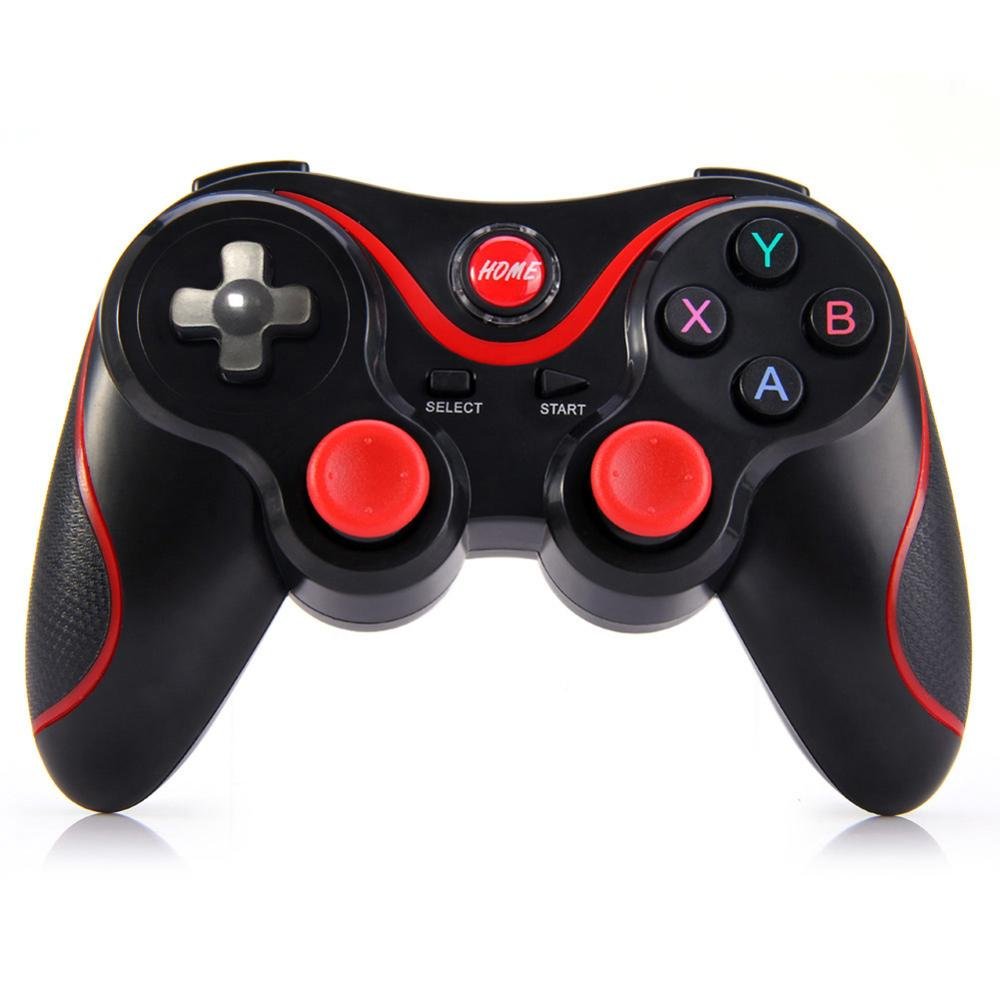controller: (27, 160, 973, 820)
